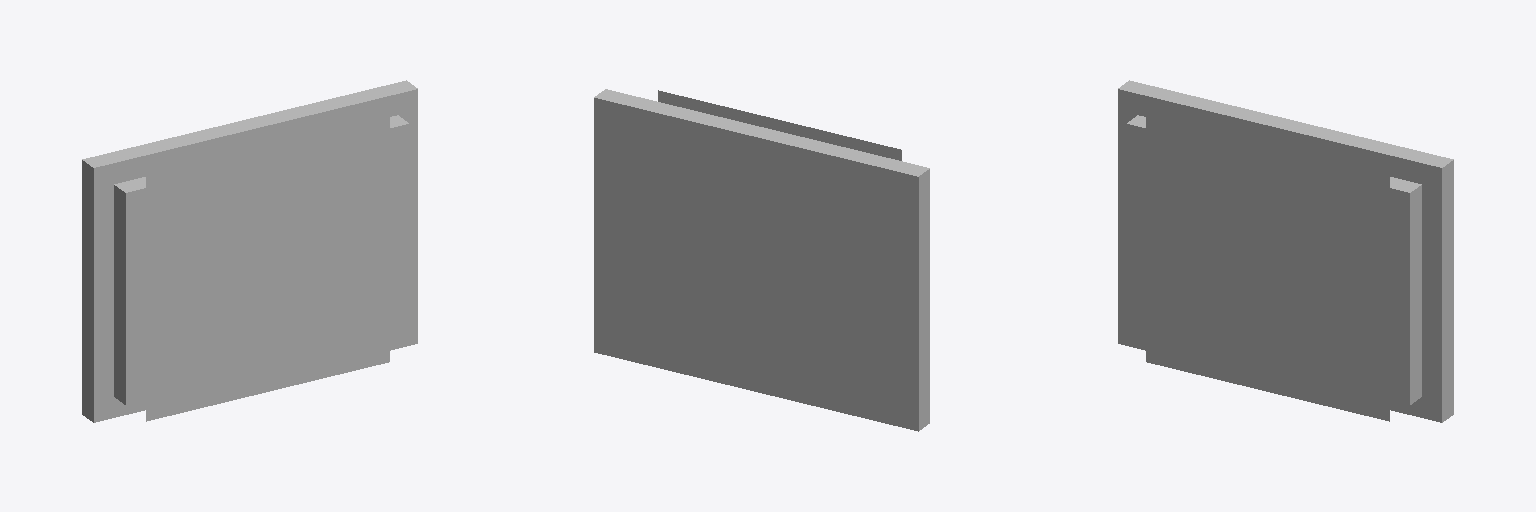
File: rocklightturnright.obj
3 renders of one model, left to right at view 1: azimuth 30°, elevation 25°; view 2: azimuth 150°, elevation 25°; view 3: azimuth 330°, elevation 25°, orthographic.
Parts seen in each view (by area): view 1: &RightTurnLight_c88835_3FF_100, cube, glass; view 2: cube, &RightTurnLight_c88835_3FF_100; view 3: &RightTurnLight_c88835_3FF_100, cube, glass.
Boxes of the visible parts, x1,y1,x2,y2 form: &RightTurnLight_c88835_3FF_100: [146, 107, 389, 421]; cube: [82, 80, 417, 422]; glass: [114, 115, 409, 404]; cube: [594, 89, 929, 431]; &RightTurnLight_c88835_3FF_100: [658, 90, 901, 160]; &RightTurnLight_c88835_3FF_100: [1146, 107, 1389, 421]; cube: [1118, 80, 1453, 422]; glass: [1126, 115, 1421, 404].
Size of the model in its own units: 0.25 by 0.1875 by 0.0313.